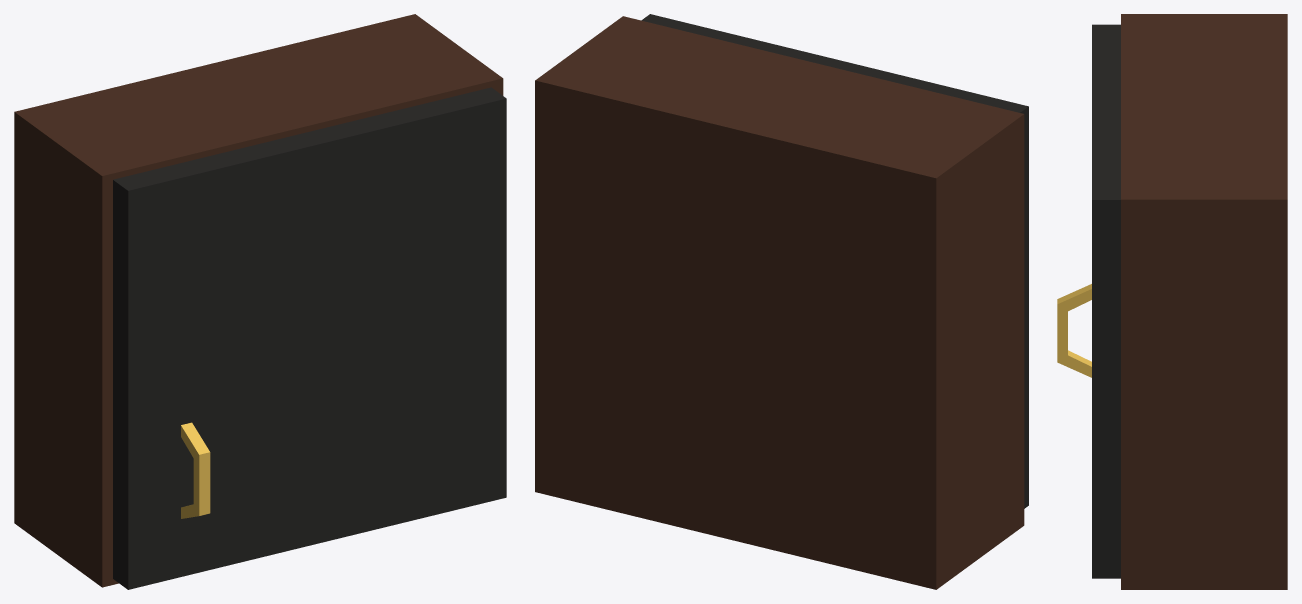
File: Cupboard_3_2.fbx
3 renders of one model, left to right at view 1: azimuth 30°, elevation 25°; view 2: azimuth 150°, elevation 25°; view 3: azimuth 270°, elevation 25°, orthographic. The views are drawn at different scales.
Visible parts, largest first — view 1: polySurface1569; view 2: polySurface1569; view 3: polySurface1569.
Boxes of the visible parts, left/top/right/bottom form: polySurface1569: left=14, top=14, right=506, bottom=589; polySurface1569: left=535, top=14, right=1028, bottom=589; polySurface1569: left=1057, top=14, right=1287, bottom=589.
Bounding box in the file's own units: 0.918 × 0.9 × 0.4813.
1 material, 1 textured.
